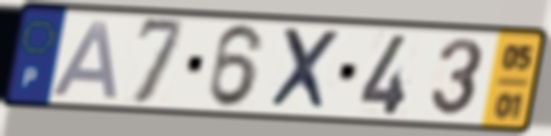3: (425, 36, 486, 119)
4: (357, 29, 412, 118)
6: (206, 21, 265, 112)
7: (133, 14, 185, 109)
A: (47, 18, 121, 102)
X: (265, 25, 344, 114)
